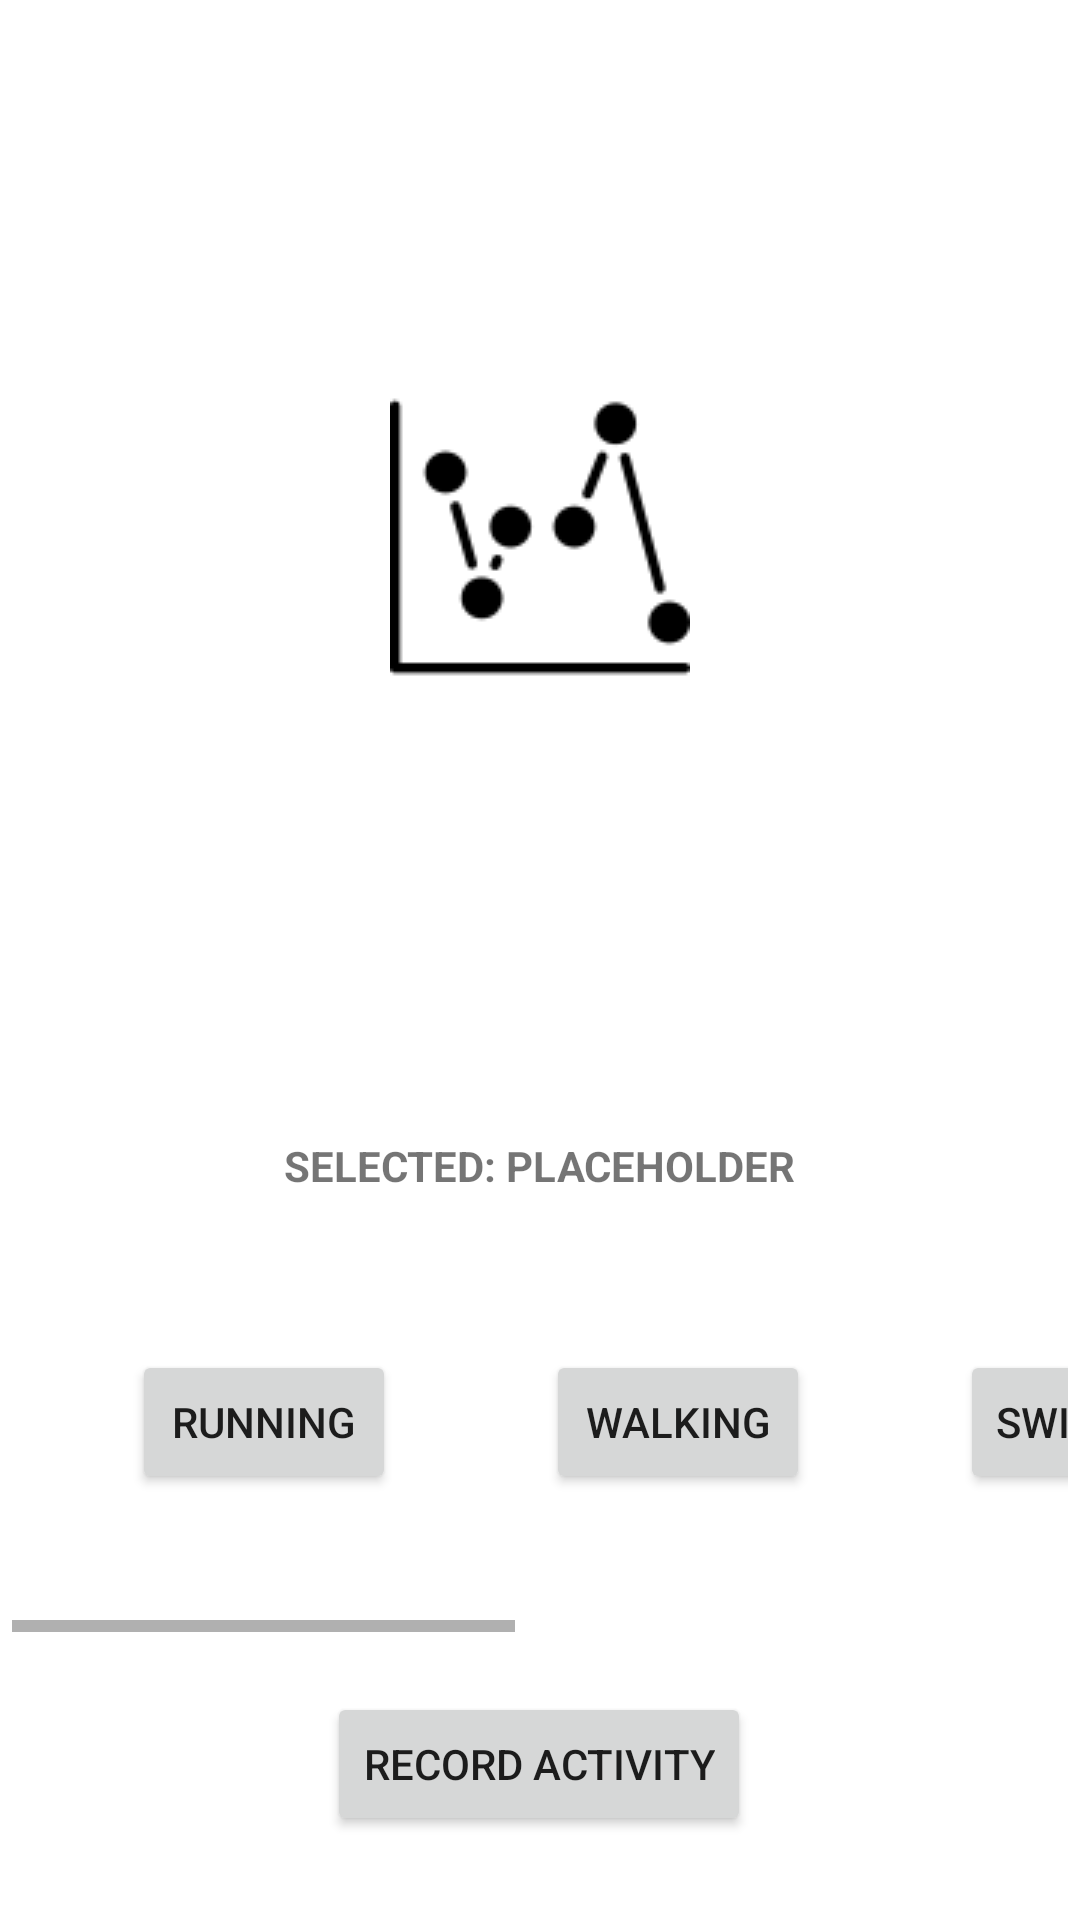

Where icons sit on this 1080px x 1920px app screen, as (x1, y1, x2, y2):
icongraph: (390, 398, 690, 676)
